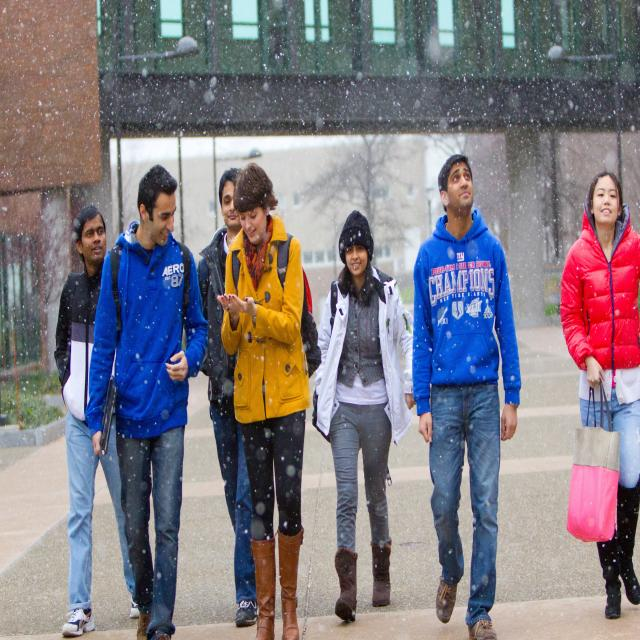body: (84, 162, 212, 640), (404, 147, 526, 640), (216, 160, 324, 640), (309, 202, 422, 632), (53, 201, 143, 638), (557, 166, 640, 626), (194, 167, 261, 630)
